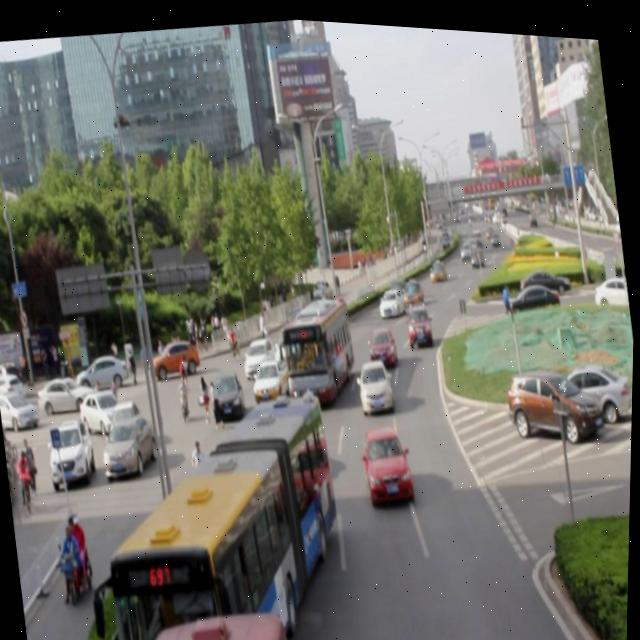car: (361, 418, 418, 502), (252, 379, 305, 448), (207, 359, 249, 420), (356, 350, 396, 411), (272, 319, 311, 368), (250, 351, 292, 396), (240, 327, 280, 374), (404, 294, 434, 340), (367, 320, 399, 362), (377, 279, 406, 313), (400, 271, 425, 304)
van: (85, 384, 356, 640), (281, 287, 360, 398), (142, 598, 296, 640)
